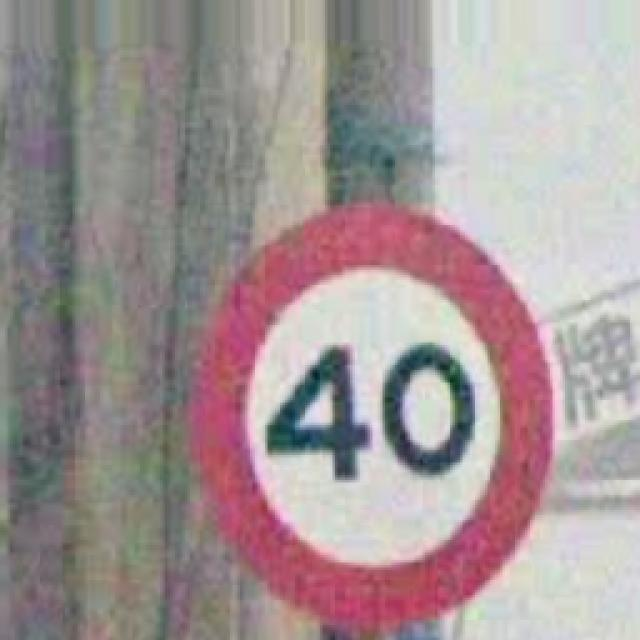Speed Limit -40-: (195, 205, 555, 630)
